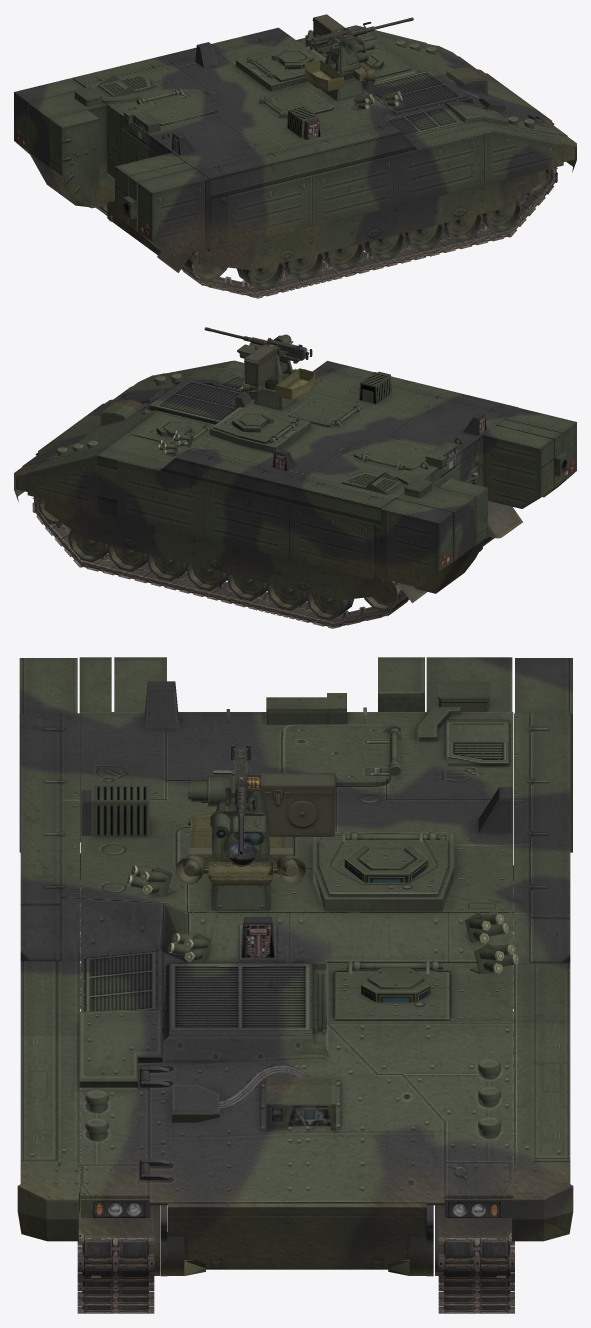
File: elite_mbt.glb
The picture shows the model from 3 angles, top to bottom: view 1: azimuth 30°, elevation 25°; view 2: azimuth 150°, elevation 25°; view 3: azimuth 270°, elevation 25°; orthographic projection. The views are drawn at different scales.
Parts seen in each view (by area): view 1: hull, applique armor right, skirt, track, applique armor left, mount, hatch5, hatch, hatch2, hatch4, wheel16, weapon (+13 smaller); view 2: hull, applique armor left, skirt, track2, applique armor right, hatch, mount, hatch5, hatch2, hatch3, guard, ammobox (+13 smaller); view 3: hull, applique armor right, applique armor left, frontguard, hatch, mount, hatch5, hatch3, track, track2, ammobox, guard (+3 smaller).
Boxes of the visible parts, <box> form: hull: <box>14,37,567,257</box>; applique armor right: <box>195,120,569,251</box>; skirt: <box>198,170,545,270</box>; track: <box>181,167,557,298</box>; applique armor left: <box>72,25,454,87</box>; mount: <box>304,29,375,91</box>; hatch5: <box>135,88,216,125</box>; hatch: <box>248,45,325,81</box>; hatch2: <box>261,87,333,118</box>; hatch4: <box>119,128,157,238</box>; wheel16: <box>237,262,285,290</box>; weapon: <box>306,17,413,50</box>; hull: <box>22,367,576,593</box>; applique armor left: <box>20,445,394,581</box>; skirt: <box>44,499,391,600</box>; track2: <box>32,497,409,628</box>; applique armor right: <box>136,360,518,418</box>; hatch: <box>213,407,298,443</box>; mount: <box>243,334,315,399</box>; hatch5: <box>354,436,434,470</box>; hatch2: <box>288,395,361,426</box>; hatch3: <box>130,412,210,446</box>; guard: <box>398,501,522,603</box>; ammobox: <box>244,345,276,386</box>; hull: <box>19,657,572,1276</box>; applique armor right: <box>20,713,79,1211</box>; applique armor left: <box>514,713,570,1193</box>; frontguard: <box>17,1162,573,1241</box>; hatch: <box>318,831,448,896</box>; mount: <box>176,774,305,885</box>; hatch5: <box>282,724,400,785</box>; hatch3: <box>334,960,450,1020</box>; track: <box>77,880,154,1313</box>; track2: <box>438,880,514,1313</box>; ammobox: <box>260,773,337,836</box>; guard: <box>79,853,513,1237</box>.
Size of the model in its own units: 8 by 3.59 by 4.34.
Materials: 7 (7 with a texture image).
